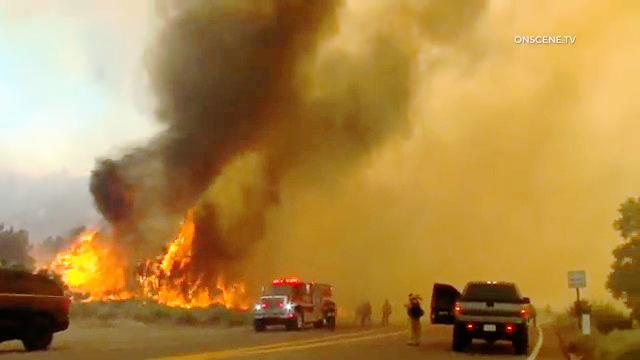fire: (112, 0, 446, 189), (132, 194, 202, 303), (41, 215, 120, 301), (208, 268, 257, 307)
